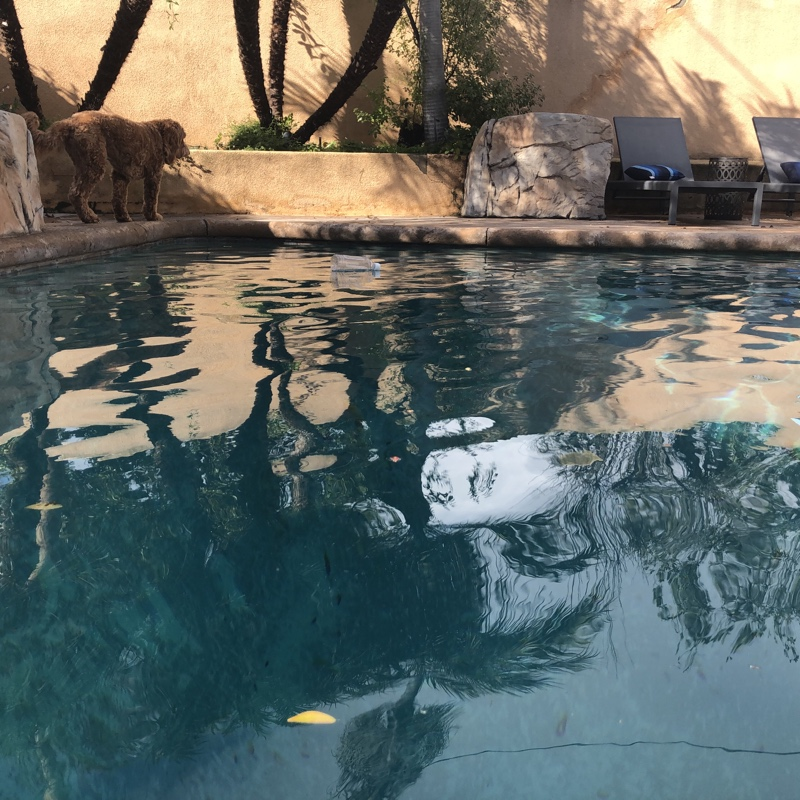Plastic Bottle: (330, 251, 382, 277)
